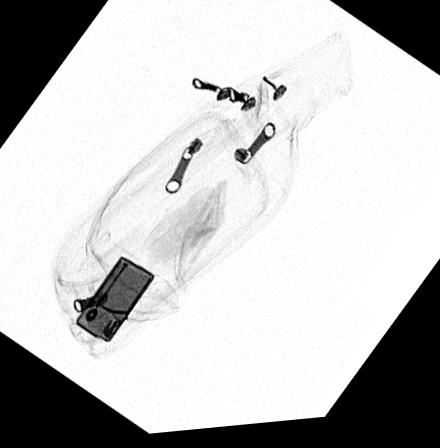Lighter: (75, 258, 156, 344)
